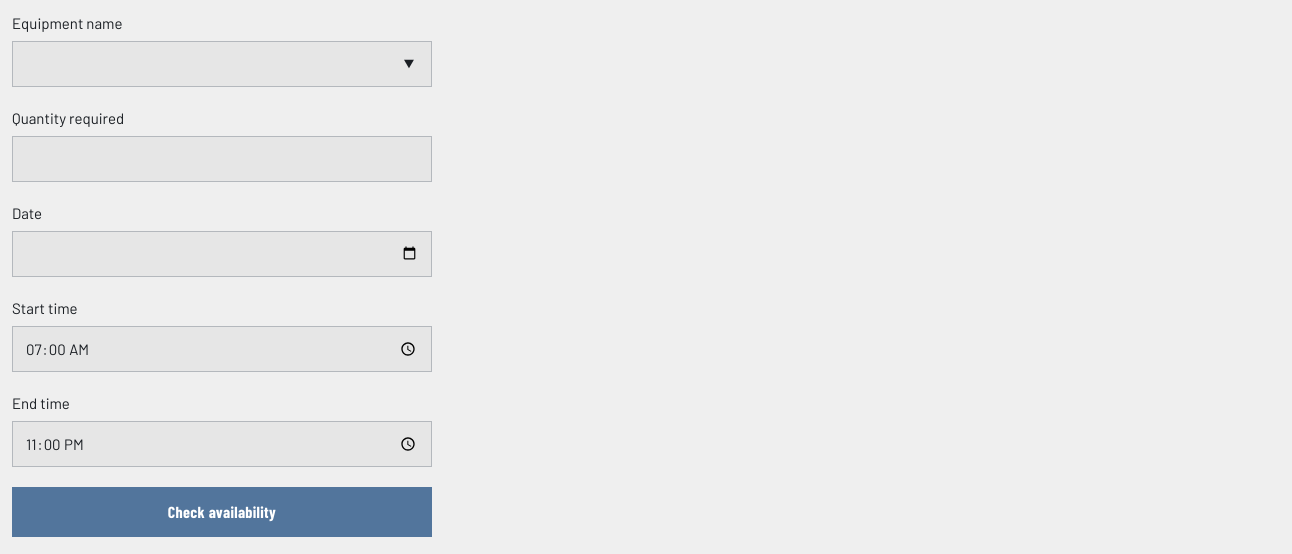
Test case: SCRUM-18 equipment availability form › SCRUM-18/AC1,AC2: shows how many are available and says Available
Type "Projector Unit" into the field labelled "Equipment name".
click(222, 64); type("Projector Unit")  # box x1=12 y1=40 x2=432 y2=87
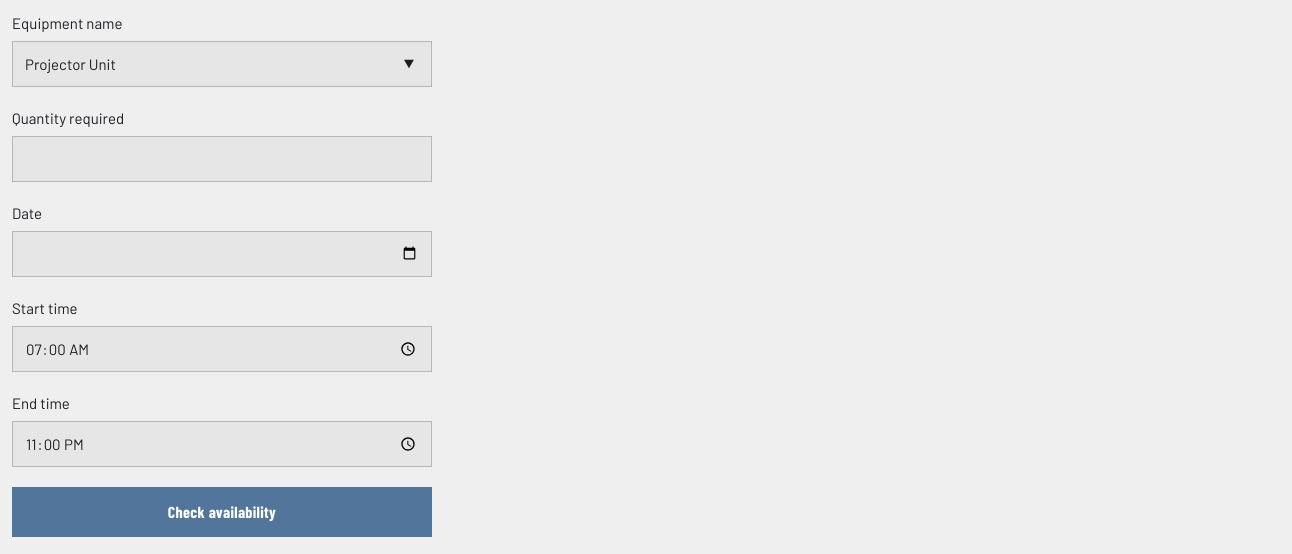
Type "4" into the number field labelled "Quantity required".
click(222, 159); type("4")  # box x1=12 y1=136 x2=432 y2=182
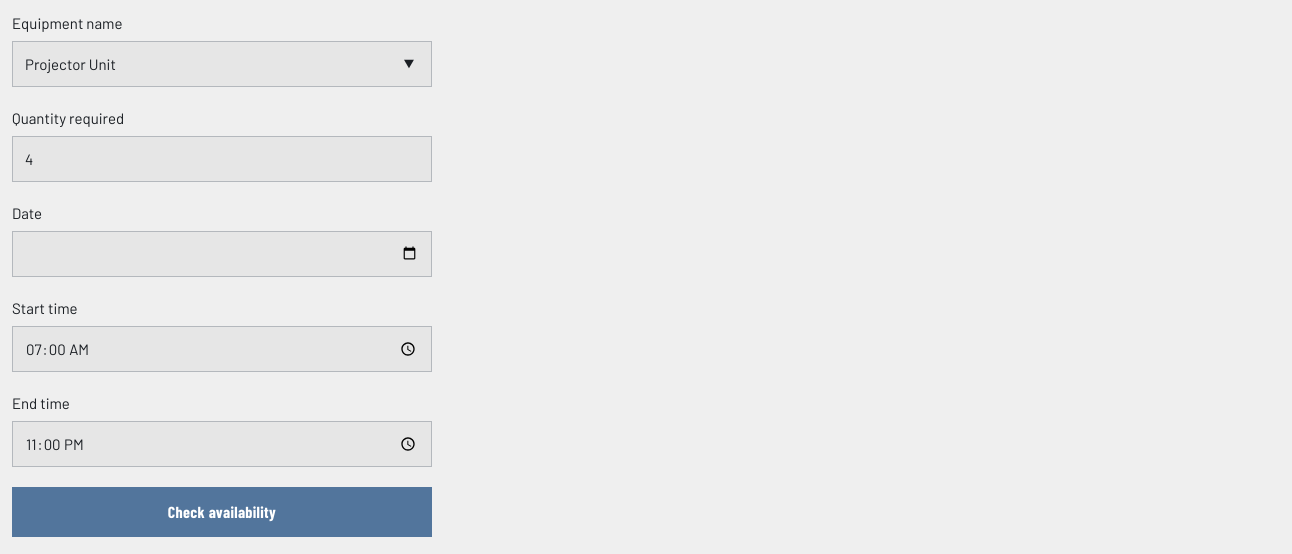
Type "2099-10-15" into the date field labelled "Date".
click(222, 254); type("2099-10-15")  # box x1=12 y1=230 x2=432 y2=277
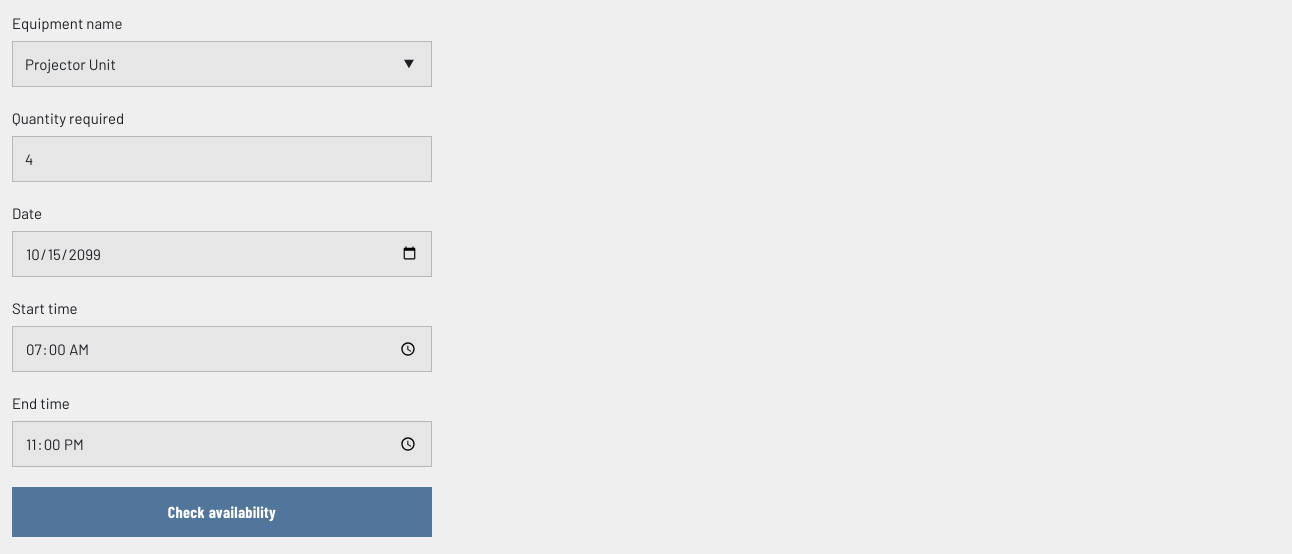
Replace the text in the time field labelled "Start time" with "09:00" at (222, 349), box x1=12 y1=326 x2=432 y2=372
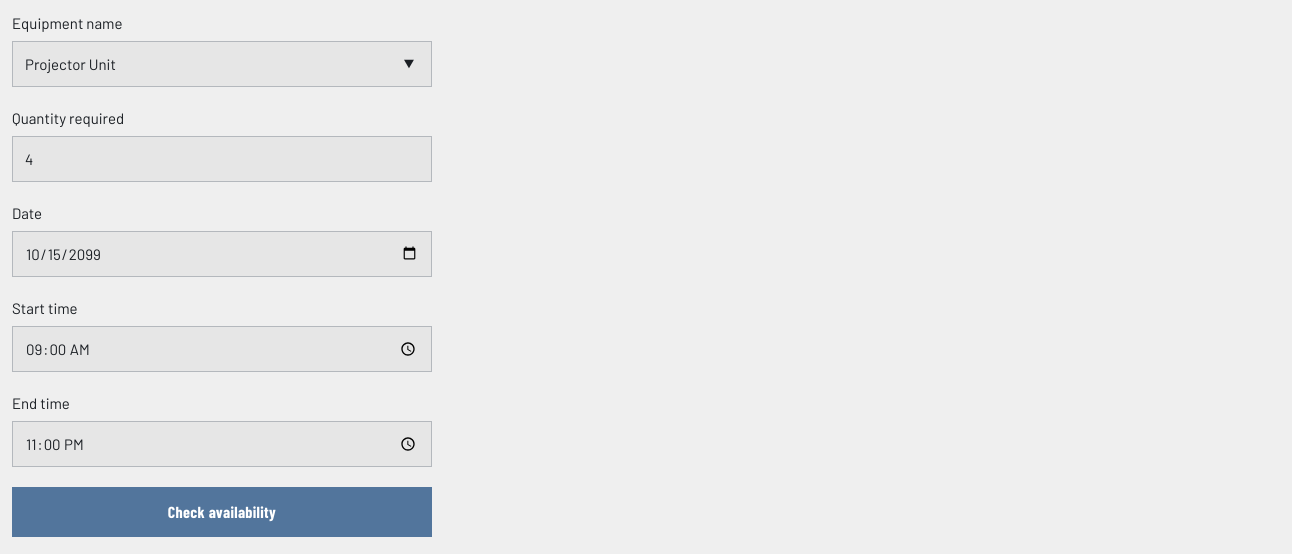
Replace the text in the time field labelled "End time" with "17:00" at (222, 444), box x1=12 y1=420 x2=432 y2=467
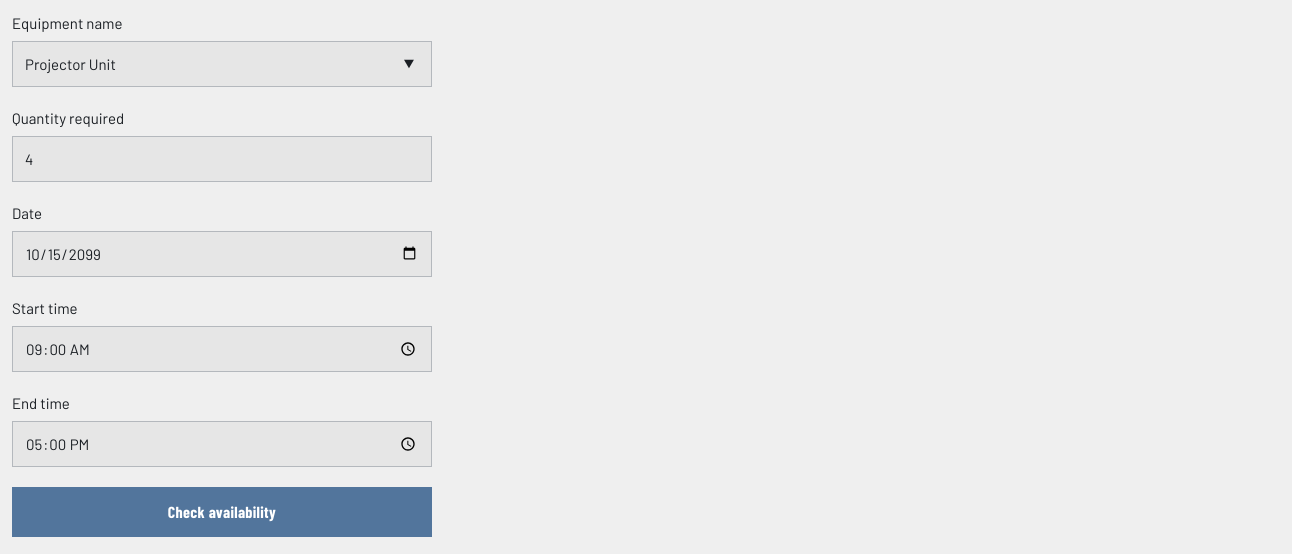
Click the button "Check availability".
click(222, 512)  # box x1=12 y1=487 x2=432 y2=537
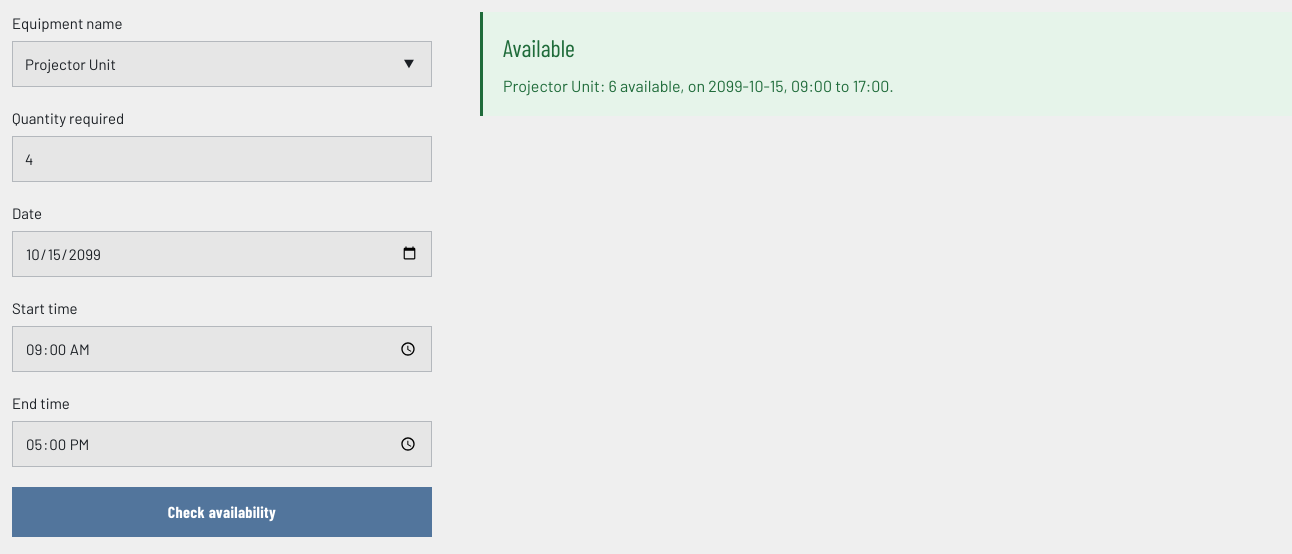
Now the heading "Available" is shown, box x1=503 y1=33 x2=575 y2=62
Now the message shows "Projector Unit: 6 available, on 2099-10-15, 09:00 to 17:00.", box x1=480 y1=12 x2=1291 y2=116
